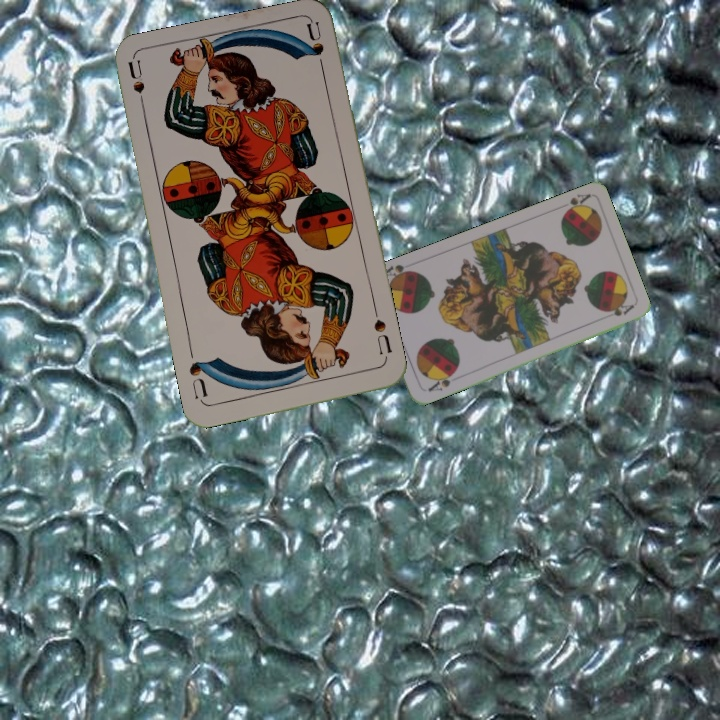SA: (559, 190, 592, 217), (424, 368, 458, 394)
SU: (124, 58, 149, 118), (369, 315, 394, 364)
